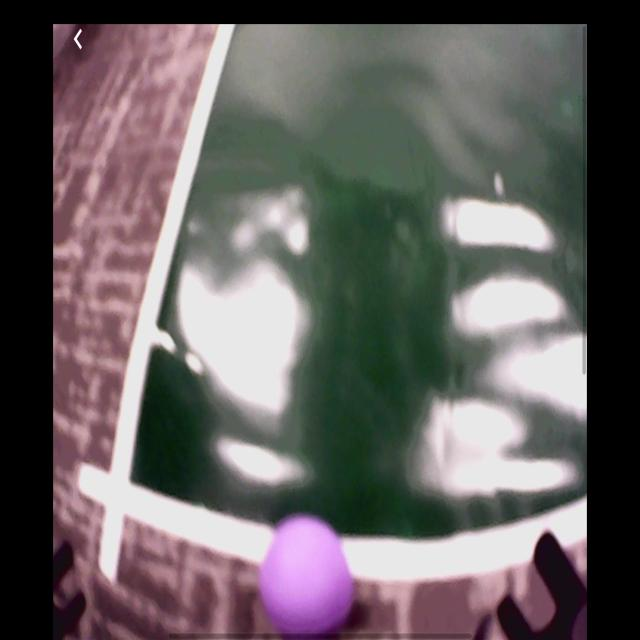ball: (260, 520, 355, 636)
